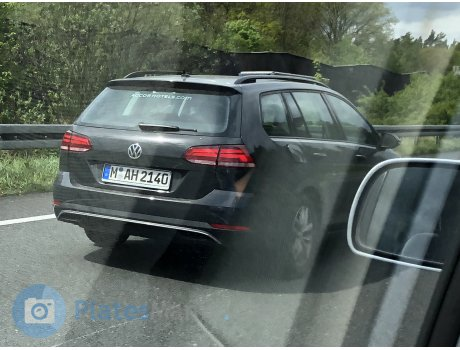License Plates: (106, 167, 175, 188)
